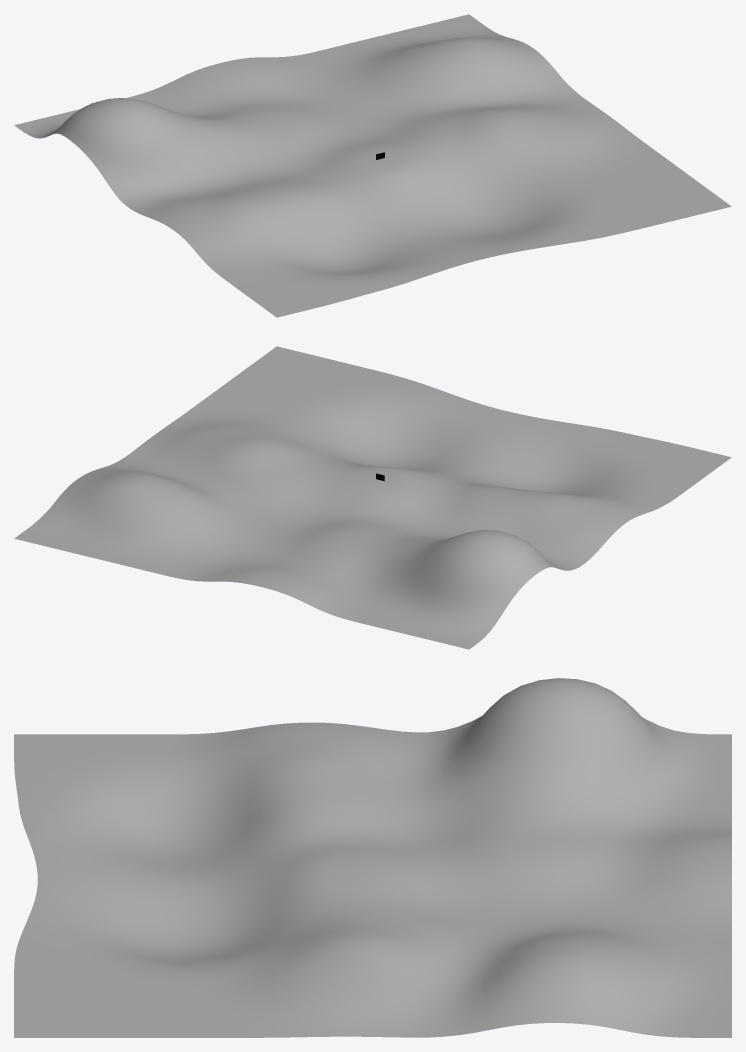
File: anim_mus_combined.fbx
3 views of the same model, one above another, from view 1: azimuth 30°, elevation 25°; view 2: azimuth 150°, elevation 25°; view 3: azimuth 270°, elevation 25° (orthographic). The views are drawn at different scales.
Parts seen in each view (by area): view 1: sm_envrio; view 2: sm_envrio; view 3: sm_envrio.
Part boxes in pixels (x1,y1,x2,y2): sm_envrio: [14, 14, 731, 317]; sm_envrio: [14, 346, 731, 649]; sm_envrio: [14, 678, 731, 1037].
Size of the model in its own units: 83.81 by 82.34 by 13.21.
